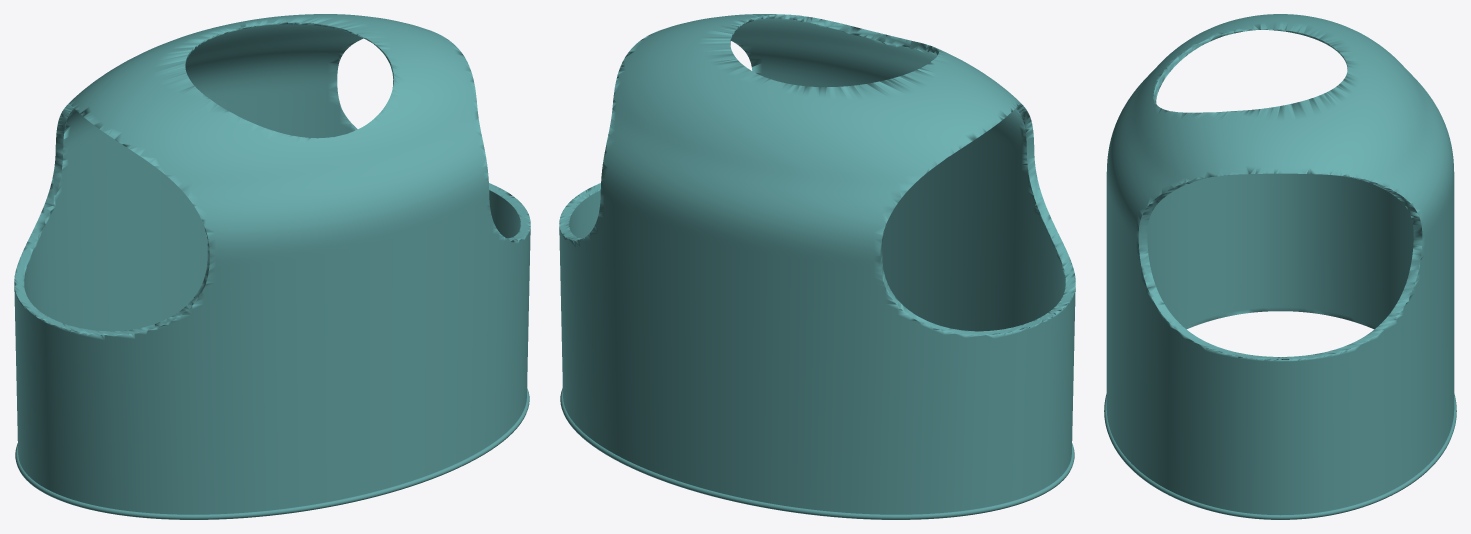
The model's file is Masculine-tank-top.glb.
The picture shows the model from 3 angles, left to right: view 1: azimuth 30°, elevation 25°; view 2: azimuth 150°, elevation 25°; view 3: azimuth 270°, elevation 25°; orthographic projection. The views are drawn at different scales.
Parts seen in each view (by area): view 1: Clothing / tank, Shirt / hem export; view 2: Clothing / tank, Shirt / hem export; view 3: Clothing / tank, Shirt / hem export.
Part boxes in pixels (x1,y1,x2,y2): Clothing / tank: (14,14,530,514); Shirt / hem export: (15,387,529,519); Clothing / tank: (559,14,1075,514); Shirt / hem export: (560,387,1074,519); Clothing / tank: (1106,14,1454,515); Shirt / hem export: (1104,394,1456,519).
Bounding box in the file's own units: 0.7776 × 0.5806 × 0.536.
